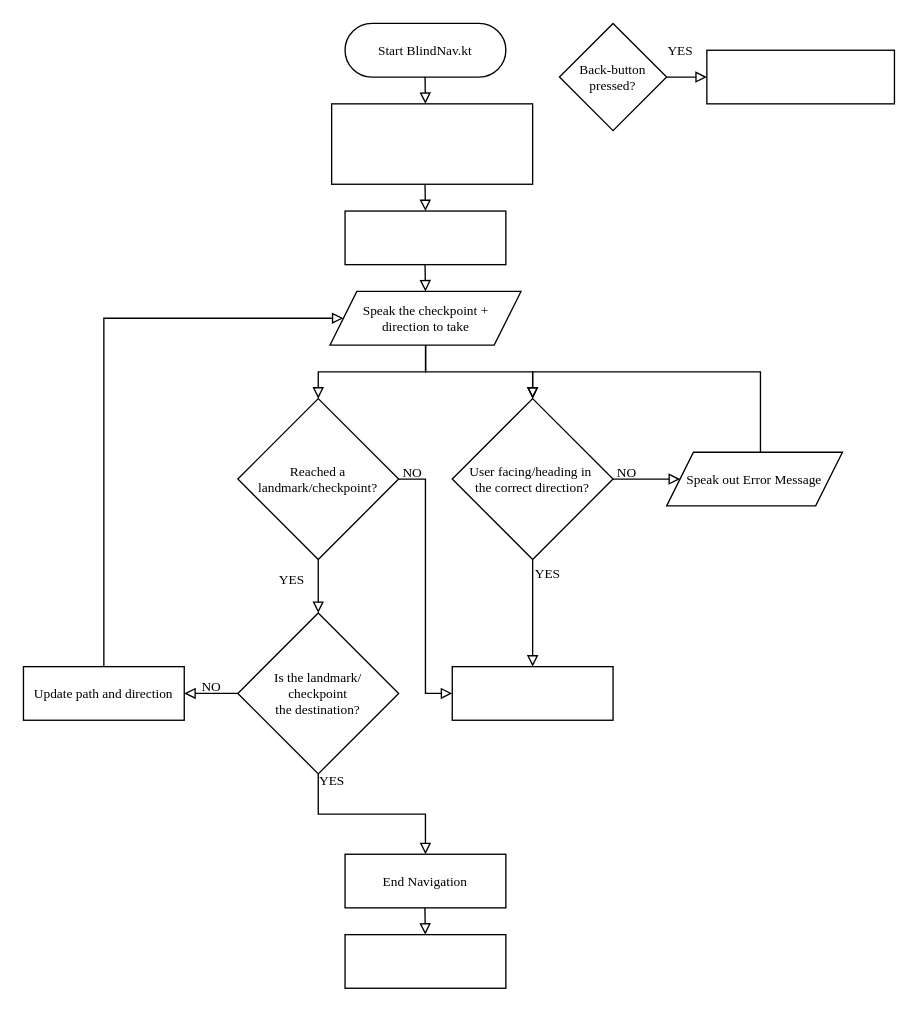
This 918x1012 diagram has some shape labels left out. Each missing label, with the centre of its shape:
"Continue Navigation" belongs at (x=532, y=692).
"Initialize AssistedNavigation.kt" belongs at (x=800, y=76).
"Initialize Bluetooth Adapter, start scanning for BLE beacons" belongs at (x=425, y=237).
"Initialize TTS Controller, Sensor Manager, Accelerometer, Magnetometer" belongs at (x=431, y=143).
"Start AssistedNavigation.kt" belongs at (x=425, y=960).
